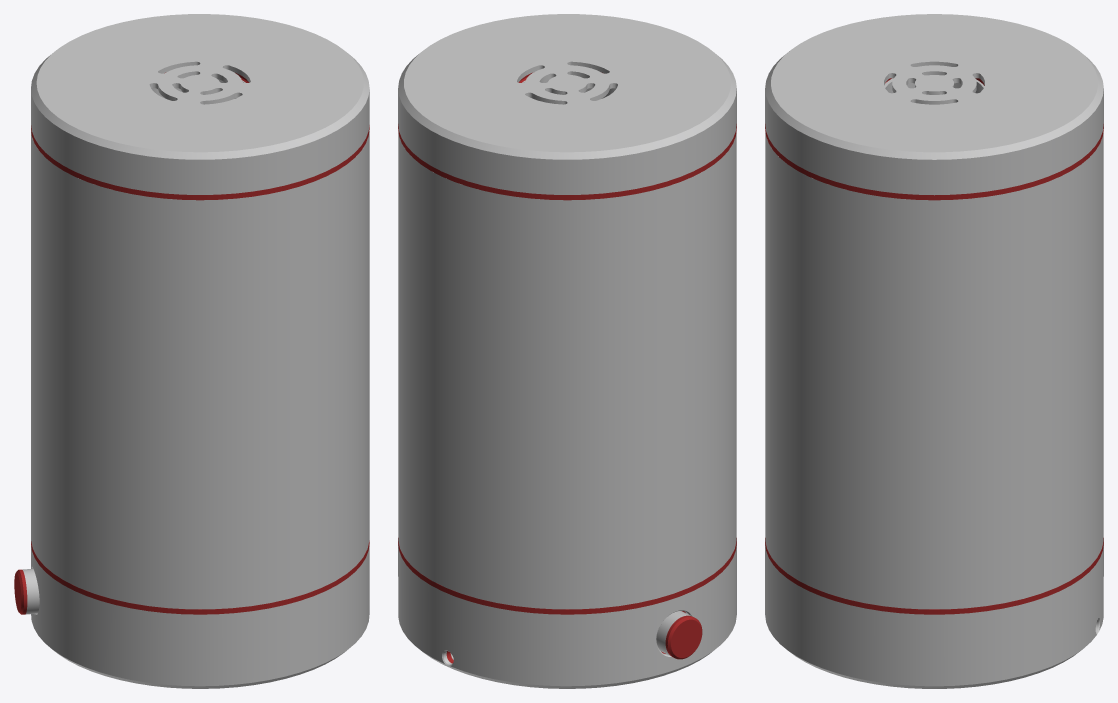
The model's file is lamp-closed.glb.
3 renders of one model, left to right at view 1: azimuth 30°, elevation 25°; view 2: azimuth 150°, elevation 25°; view 3: azimuth 270°, elevation 25°, orthographic.
Parts seen in each view (by area): view 1: body_122, body_120, body_398, body_399, body_268, body_124; view 2: body_122, body_120, body_398, body_399, body_268, body_269; view 3: body_122, body_120, body_398, body_399, body_268.
Part boxes in pixels (x1,y1,x2,y2): body_122: (31,130,369,609); body_120: (31,14,369,194); body_398: (31,544,369,688); body_399: (31,540,369,614); body_268: (31,125,369,200); body_124: (22,568,39,614); body_122: (398,132,736,609); body_120: (398,14,736,194); body_398: (398,543,736,688); body_399: (398,538,736,663); body_268: (398,124,736,200); body_269: (665,615,702,659); body_122: (765,132,1103,609); body_120: (765,14,1103,195); body_398: (765,543,1103,688); body_399: (765,538,1103,614); body_268: (765,124,1103,200).
Bounding box in the file's own units: 0.1552 × 0.2623 × 0.15.
